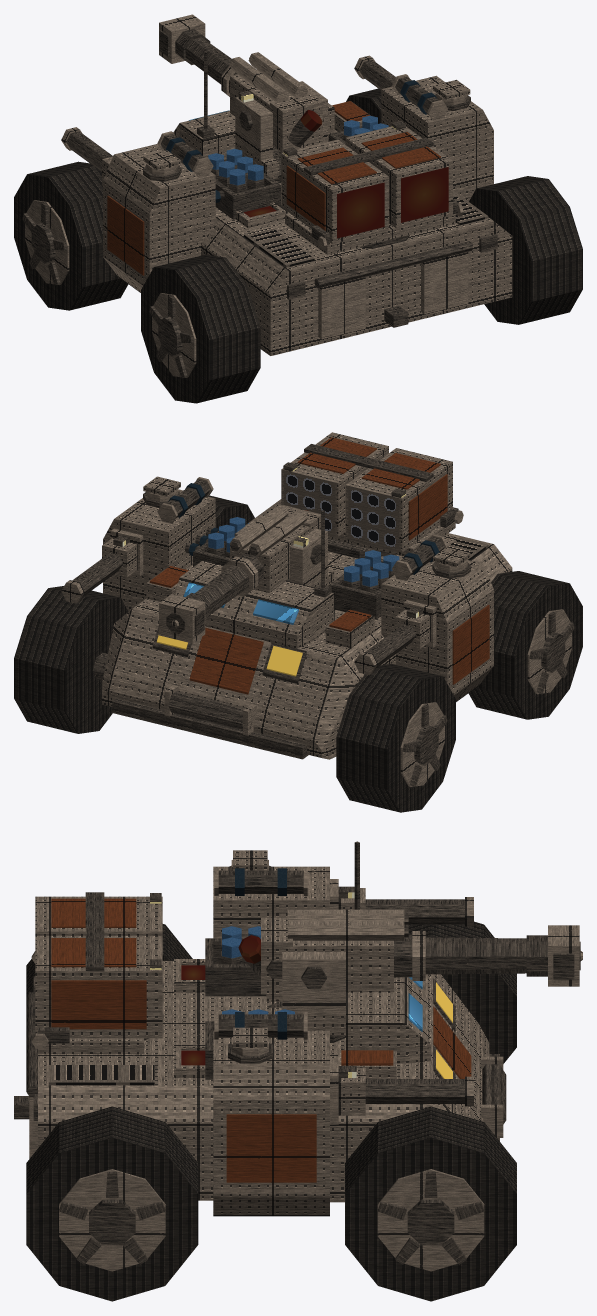
The model's file is musk_ox.glb.
3 renders of one model, top to bottom at view 1: azimuth 30°, elevation 25°; view 2: azimuth 150°, elevation 25°; view 3: azimuth 270°, elevation 25°, orthographic. The views are drawn at different scales.
Parts seen in each view (by area): view 1: hull, tyre.002, tyre.003, tyre, sponson, sponson.001, pod, pod.001, spade, spade.001, blast_l, blast_r (+32 smaller); view 2: hull, tyre.001, tyre, tyre.002, sponson, cab, sponson.001, glacis_panel, bumper, pod_face, pod, sponson_panel (+39 smaller); view 3: hull, tyre.003, tyre.001, sponson.001, sponson_panel.001, pod.001, cab, barrel.002, rim.001, rim.003, tyre, pod_panel.002 (+35 smaller).
Boxes of the visible parts, left/top/right/bottom form: hull: left=201, top=130, right=512, bottom=355; tyre.002: left=141, top=254, right=260, bottom=403; tyre.003: left=469, top=176, right=582, bottom=324; tyre: left=14, top=161, right=128, bottom=310; sponson: left=103, top=144, right=215, bottom=292; sponson.001: left=381, top=75, right=493, bottom=201; pod: left=281, top=139, right=388, bottom=243; pod.001: left=345, top=126, right=452, bottom=228; spade: left=318, top=277, right=365, bottom=339; spade.001: left=421, top=252, right=468, bottom=314; blast_l: left=337, top=182, right=384, bottom=238; blast_r: left=401, top=167, right=448, bottom=222; hull: left=102, top=533, right=512, bottom=759; tyre.001: left=14, top=586, right=128, bottom=733; tyre: left=336, top=663, right=455, bottom=812; tyre.002: left=468, top=571, right=582, bottom=719; sponson: left=381, top=560, right=493, bottom=701; cab: left=175, top=560, right=334, bottom=648; sponson.001: left=103, top=489, right=215, bottom=611; glacis_panel: left=189, top=627, right=263, bottom=694; bumper: left=112, top=698, right=308, bottom=759; pod_face: left=348, top=486, right=399, bottom=551; pod: left=345, top=448, right=452, bottom=552; sponson_panel: left=452, top=604, right=489, bottom=684; hull: left=38, top=960, right=489, bottom=1202; tyre.003: left=26, top=1106, right=198, bottom=1301; tyre.001: left=345, top=1106, right=516, bottom=1301; sponson.001: left=213, top=1030, right=329, bottom=1216; sponson_panel.001: left=226, top=1114, right=316, bottom=1182; pod.001: left=35, top=936, right=162, bottom=1038; cab: left=346, top=974, right=430, bottom=1063; barrel.002: left=394, top=934, right=547, bottom=977; rim.001: left=377, top=1169, right=484, bottom=1271; rim.003: left=59, top=1169, right=165, bottom=1271; tyre: left=408, top=921, right=516, bottom=1063; pod_panel.002: left=51, top=980, right=146, bottom=1029.
Size of the model in its own units: 106 by 64.1 by 107.
Materials: 15 (15 with a texture image).
